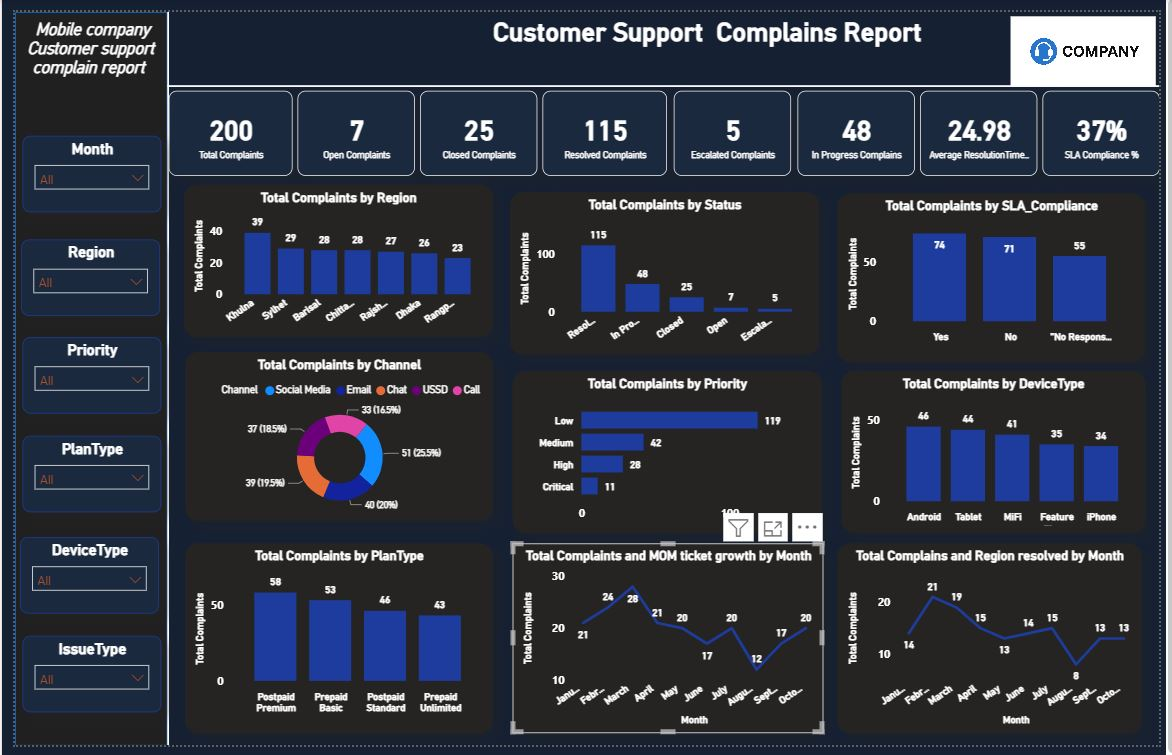

The dashboard page shown, as its layout file describes it:
{"tool":"powerbi","page":{"name":"Page 2","canvas":[1280,820],"ordinal":1},"visuals":[{"type":"shape","box":[0,0,170.5,820.4],"z":0},{"type":"textbox","box":[171.9,0,1108.4,65.7],"z":1000},{"type":"image","box":[1108.4,0,171.9,88.1],"z":2000},{"type":"shape","box":[170.5,76.3,1109.8,11.9],"z":3000},{"type":"shape","box":[164.9,0,12.6,820.4],"z":4000},{"type":"card","fields":{"Values":["Measure.Total Complaints"]},"box":[171.7,88.2,138.3,95.4],"z":5000},{"type":"card","fields":{"Values":["Measure.Open Complaints"]},"box":[315.9,88.2,131.1,95.4],"z":6000},{"type":"card","fields":{"Values":["Measure.Closed Complaints"]},"box":[453,88.2,131.1,95.4],"z":7000},{"type":"card","fields":{"Values":["Measure.Resolved Complaints"]},"box":[590.1,88.2,139.5,95.4],"z":8000},{"type":"card","fields":{"Values":["Measure.Escalated Complaints"]},"box":[736.7,88.2,131.1,95.4],"z":9000},{"type":"card","fields":{"Values":["Measure.In Progress Complains"]},"box":[874.9,88.2,131.1,95.4],"z":10000},{"type":"card","fields":{"Values":["Measure.Average ResolutionTimeHours"]},"box":[1012,88.2,131.1,95.4],"z":11000},{"type":"card","fields":{"Values":["Measure.SLA Compliance %"]},"box":[1148.6,88.2,131.1,95.4],"z":12000},{"type":"clusteredColumnChart","fields":{"Y":["Measure.Total TicketID"],"Category":["Dataset.Region"]},"box":[188.7,192.9,345.2,170.5],"z":13000},{"type":"donutChart","fields":{"Y":["Measure.Total Complaints"],"Category":["Dataset.Channel"]},"box":[190.1,380.2,343.8,188.7],"z":14000},{"type":"columnChart","fields":{"Category":["Dataset.Status"],"Y":["Measure.Total Complaints"]},"box":[553.5,201.3,345.2,181.7],"z":15000},{"type":"barChart","fields":{"Category":["Dataset.Priority"],"Y":["Measure.Total Complaints"]},"box":[556.3,401.1,345.2,181.7],"z":16000},{"type":"columnChart","fields":{"Y":["Measure.Total Complaints"],"Category":["Dataset.SLA_Compliance"]},"box":[919.7,202.7,343.8,188.7],"z":17000},{"type":"columnChart","fields":{"Category":["Dataset.DeviceType"],"Y":["Measure.Total Complaints"]},"box":[923.9,401.1,339.6,181.7],"z":18000},{"type":"lineChart","fields":{"Y":["Measure.Total TicketID"],"Category":["DateMaster.Date.Variation.Date Hierarchy.Month"]},"box":[556.3,594,348,212.4],"z":19000},{"type":"lineChart","title":"Total Complains and Region resolved by Month","fields":{"Category":["Dataset.ResolvedDate.Variation.Date Hierarchy.Month"],"Y":["Measure.Total TicketID"]},"box":[919.7,594,339.6,212.4],"z":20000},{"type":"barChart","fields":{"Category":["Dataset.PlanType"],"Y":["Measure.Total Complaints"]},"box":[190.1,594,343.8,212.4],"z":21000},{"type":"slicer","title":"Region","fields":{"Values":["Dataset.Region"]},"box":[6.4,254.2,155.1,85.3],"z":22000},{"type":"slicer","title":"PlanType","fields":{"Values":["Dataset.PlanType"]},"box":[7.8,473.6,155.1,85.3],"z":23000},{"type":"slicer","title":"Priority","fields":{"Values":["Dataset.Priority"]},"box":[7.8,363.2,155.1,85.3],"z":24000},{"type":"slicer","title":"IssueType","fields":{"Values":["Dataset.IssueType"]},"box":[7.8,697.2,155.1,85.3],"z":25000},{"type":"slicer","title":"DeviceType","fields":{"Values":["Dataset.DeviceType"]},"box":[5,586.8,155.1,85.3],"z":26000},{"type":"slicer","title":"Month","fields":{"Values":["DateMaster.Date.Variation.Date Hierarchy.Month"]},"box":[7.8,139,155.1,85.3],"z":27000},{"type":"textbox","box":[5.6,2.8,157.9,118.8],"z":27001}]}

Visuals, with their boxes in screenshot pixels (x1, y1, x2, y2), scaled from the page's 1280x820 canvas onto the 1172x755 screenshot:
shape: x1=0, y1=0, x2=156, y2=754
textbox: x1=157, y1=0, x2=1171, y2=60
image: x1=1015, y1=0, x2=1171, y2=81
shape: x1=156, y1=70, x2=1171, y2=81
shape: x1=151, y1=0, x2=163, y2=754
card - Measure.Total Complaints: x1=157, y1=81, x2=284, y2=169
card - Measure.Open Complaints: x1=289, y1=81, x2=409, y2=169
card - Measure.Closed Complaints: x1=415, y1=81, x2=535, y2=169
card - Measure.Resolved Complaints: x1=540, y1=81, x2=668, y2=169
card - Measure.Escalated Complaints: x1=675, y1=81, x2=795, y2=169
card - Measure.In Progress Complains: x1=801, y1=81, x2=921, y2=169
card - Measure.Average ResolutionTimeHours: x1=927, y1=81, x2=1047, y2=169
card - Measure.SLA Compliance %: x1=1052, y1=81, x2=1171, y2=169
clusteredColumnChart - Measure.Total TicketID x Dataset.Region: x1=173, y1=178, x2=489, y2=335
donutChart - Measure.Total Complaints x Dataset.Channel: x1=174, y1=350, x2=489, y2=524
columnChart - Dataset.Status x Measure.Total Complaints: x1=507, y1=185, x2=823, y2=353
barChart - Dataset.Priority x Measure.Total Complaints: x1=509, y1=369, x2=825, y2=537
columnChart - Measure.Total Complaints x Dataset.SLA_Compliance: x1=842, y1=187, x2=1157, y2=360
columnChart - Dataset.DeviceType x Measure.Total Complaints: x1=846, y1=369, x2=1157, y2=537
lineChart - Measure.Total TicketID x DateMaster.Date.Variation.Date Hierarchy.Month: x1=509, y1=547, x2=828, y2=742
"Total Complains and Region resolved by Month" lineChart: x1=842, y1=547, x2=1153, y2=742
barChart - Dataset.PlanType x Measure.Total Complaints: x1=174, y1=547, x2=489, y2=742
"Region" slicer: x1=6, y1=234, x2=148, y2=313
"PlanType" slicer: x1=7, y1=436, x2=149, y2=515
"Priority" slicer: x1=7, y1=334, x2=149, y2=413
"IssueType" slicer: x1=7, y1=642, x2=149, y2=720
"DeviceType" slicer: x1=5, y1=540, x2=147, y2=619
"Month" slicer: x1=7, y1=128, x2=149, y2=207
textbox: x1=5, y1=3, x2=150, y2=112
